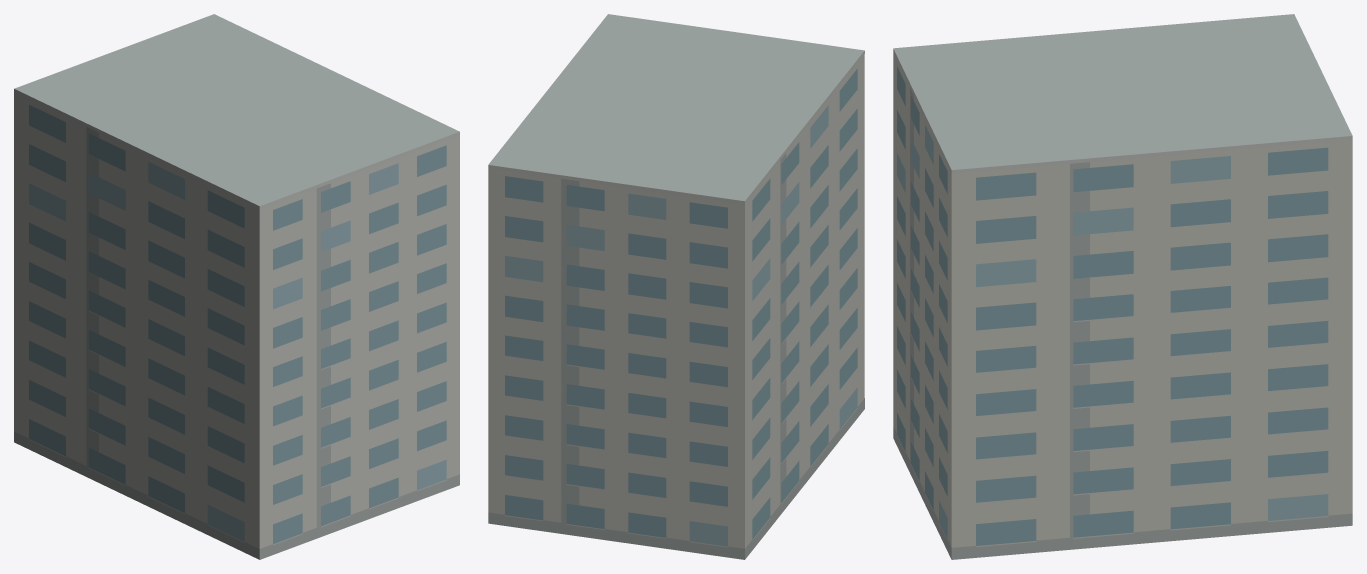
File: residential-8a5ac378-e6fa-46d3-b0fb-48a6fefb057f.glb
3 views of the same model, side by side, from view 1: azimuth 30°, elevation 25°; view 2: azimuth 150°, elevation 25°; view 3: azimuth 270°, elevation 25° (orthographic). The views are drawn at different scales.
Parts seen in each view (by area): view 1: residential-8a5ac378-e6fa-46d3-b0fb-48a6fefb057f.tmp; view 2: residential-8a5ac378-e6fa-46d3-b0fb-48a6fefb057f.tmp; view 3: residential-8a5ac378-e6fa-46d3-b0fb-48a6fefb057f.tmp.
Part boxes in pixels (left/top/right/bottom): residential-8a5ac378-e6fa-46d3-b0fb-48a6fefb057f.tmp: left=14, top=14, right=459, bottom=559; residential-8a5ac378-e6fa-46d3-b0fb-48a6fefb057f.tmp: left=488, top=14, right=864, bottom=559; residential-8a5ac378-e6fa-46d3-b0fb-48a6fefb057f.tmp: left=893, top=14, right=1352, bottom=559.
Size of the model in its own units: 21.49 by 25 by 26.72.
